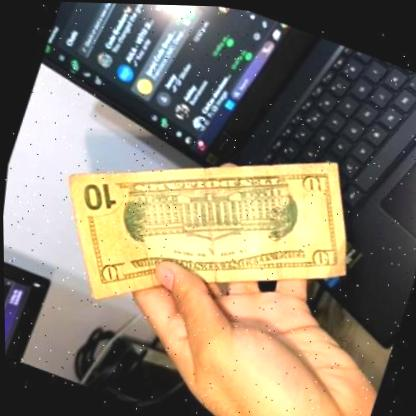ten-back: (18, 63, 391, 387)
